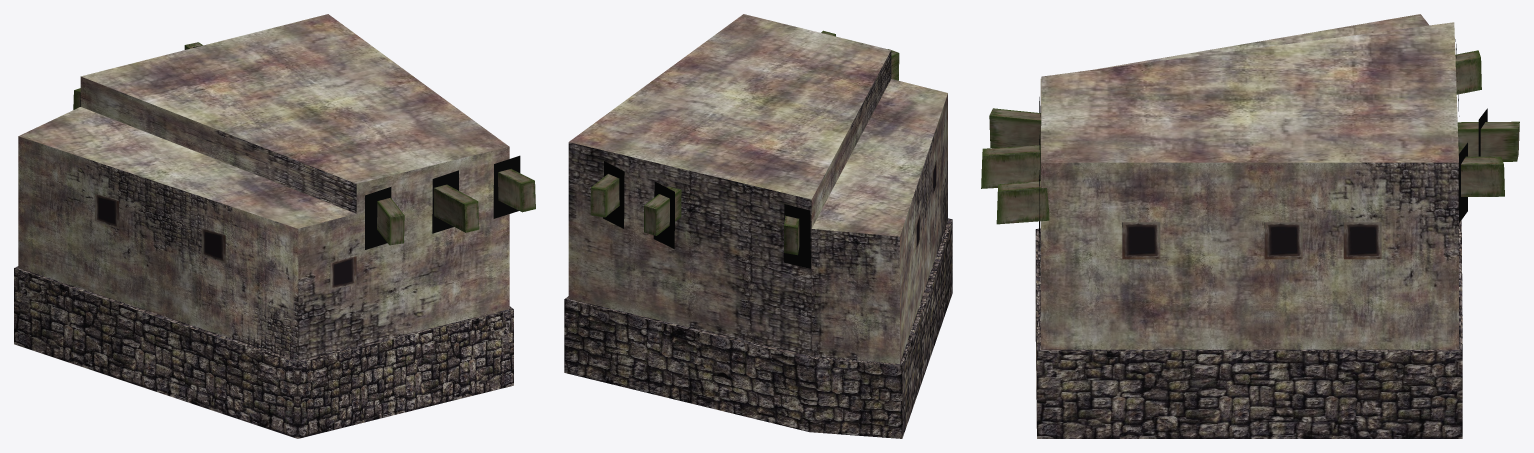
Rendered from fort_eitc_annex_2.fbx.
3 renders of one model, left to right at view 1: azimuth 30°, elevation 25°; view 2: azimuth 150°, elevation 25°; view 3: azimuth 270°, elevation 25°, orthographic. The views are drawn at different scales.
Parts seen in each view (by area): view 1: building_shell, beam_11, beam_10, beam_13, beam_drop_shadow5, window.001, beam_drop_shadow4, window27, window28, beam_drop_shadow6; view 2: building_shell, beam_1, beam_drop_shadow13, beam_14, beam_drop_shadow12, beam_drop_shadow11, beam_12; view 3: building_shell, beam_11, beam_1, beam_10, beam_13, beam_14, window31, window30, window29, beam_12.
Part boxes in pixels (x1,y1,x2,y2): building_shell: [14, 14, 513, 438]; beam_11: [433, 184, 479, 232]; beam_10: [498, 169, 535, 212]; beam_13: [377, 197, 404, 245]; beam_drop_shadow5: [365, 187, 391, 249]; window.001: [330, 256, 356, 289]; beam_drop_shadow4: [493, 155, 520, 218]; window27: [201, 228, 225, 263]; window28: [95, 194, 119, 228]; beam_drop_shadow6: [432, 170, 458, 233]; building_shell: [564, 14, 952, 438]; beam_1: [644, 186, 681, 235]; beam_drop_shadow13: [784, 204, 810, 268]; beam_14: [590, 174, 619, 217]; beam_drop_shadow12: [603, 161, 624, 228]; beam_drop_shadow11: [653, 181, 674, 248]; beam_12: [784, 215, 799, 255]; building_shell: [1035, 14, 1462, 438]; beam_11: [981, 145, 1040, 188]; beam_1: [1457, 121, 1519, 161]; beam_10: [996, 181, 1049, 224]; beam_13: [989, 108, 1041, 147]; beam_14: [1461, 156, 1504, 196]; window31: [1122, 222, 1160, 259]; window30: [1264, 222, 1302, 259]; window29: [1343, 222, 1381, 259]; beam_12: [1455, 50, 1481, 94].
Bounding box in the file's own units: 2801 × 1873 × 3329.
Materials: 4 (4 with a texture image).
